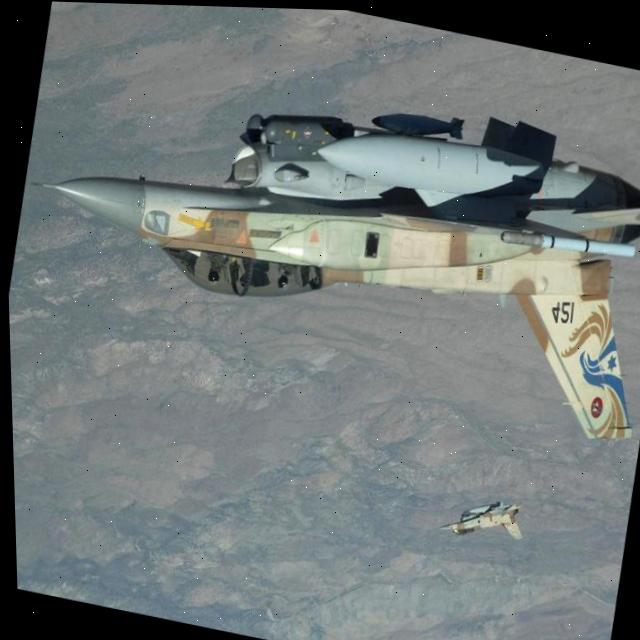missile: (304, 103, 640, 248), (363, 98, 474, 151)
